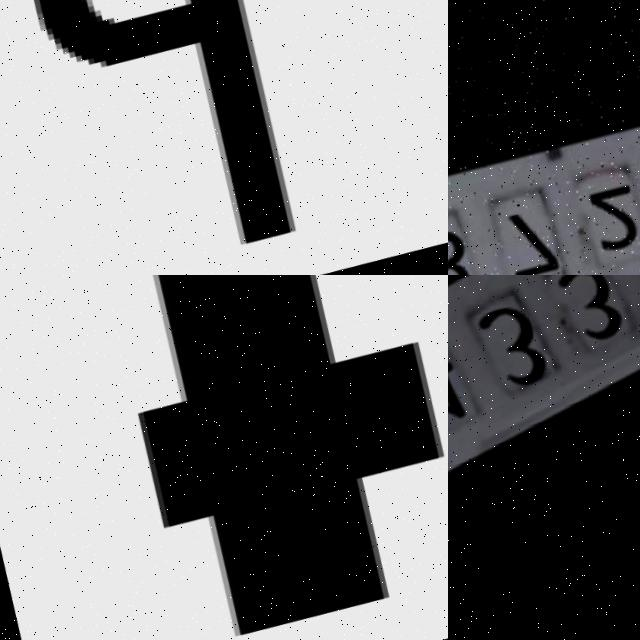2: (560, 153, 640, 275)
3: (461, 283, 571, 408), (539, 275, 640, 363)
4: (448, 326, 492, 448)
7: (473, 178, 586, 275)
8: (448, 202, 500, 275)
D: (0, 0, 336, 275)
T: (30, 275, 448, 640)
